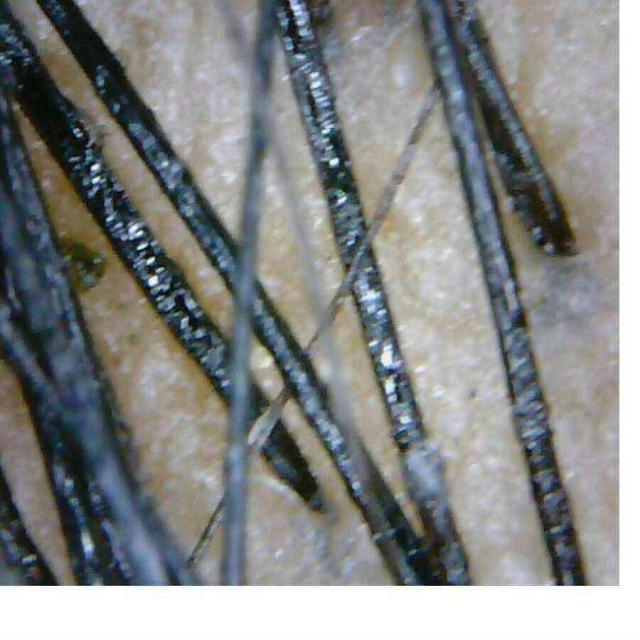o: (476, 0, 618, 269), (316, 0, 432, 219)
